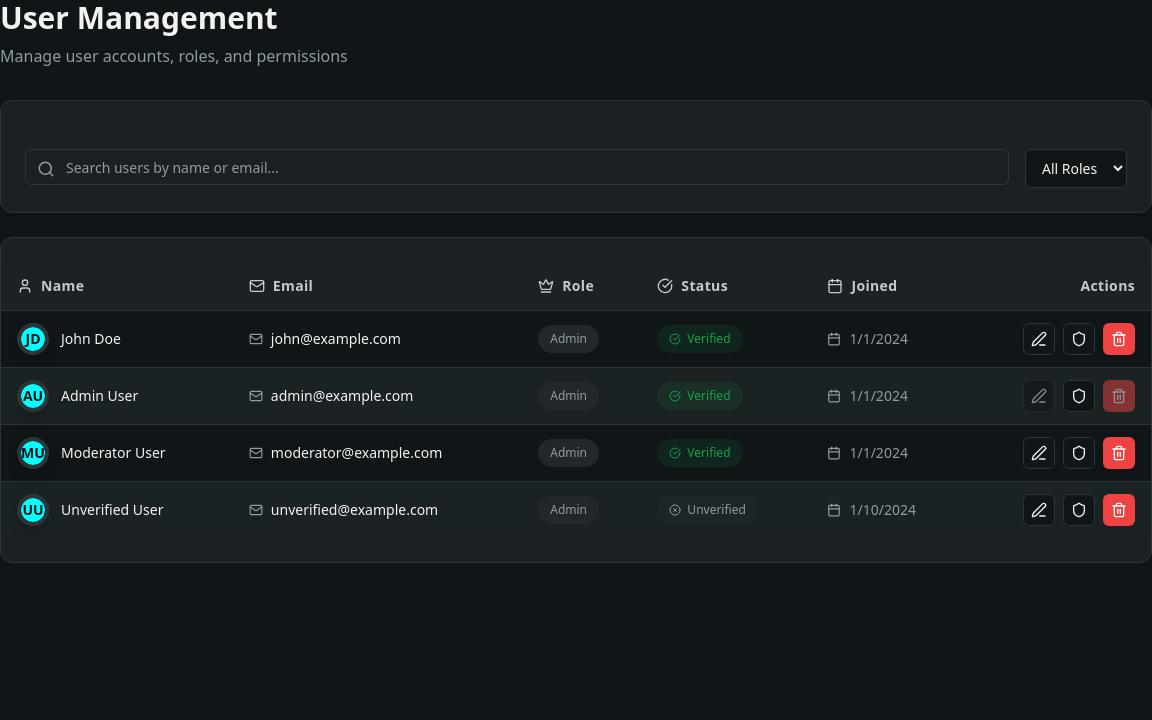
Test: UsersPage › should open edit modal when edit button is clicked
Expected: the text "John Doe" is shown, [61, 328, 121, 348]
Click the 1st button titled "Edit user details": (1039, 338) [1023, 322, 1055, 354]
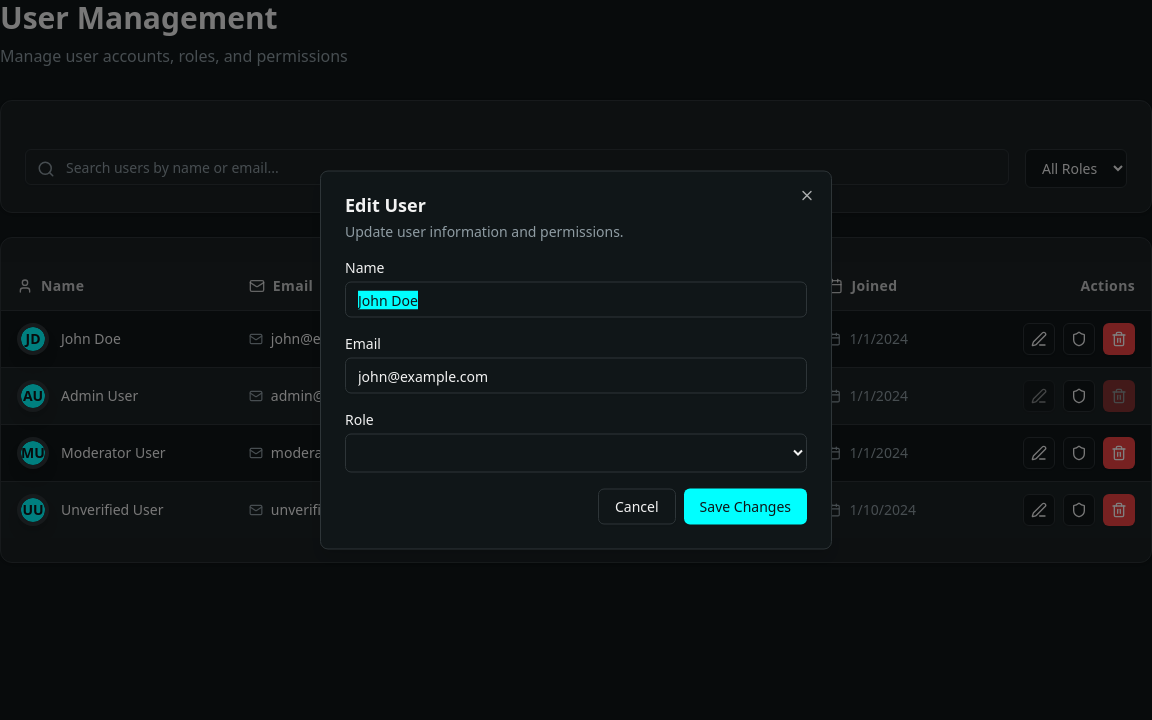
Expected: the heading "Edit User" is shown, [345, 192, 426, 216]
Expected: the 1st field showing "John Doe" is shown, [345, 282, 807, 318]
Expected: the 2nd field showing "john@example.com" is shown, [345, 358, 807, 394]
